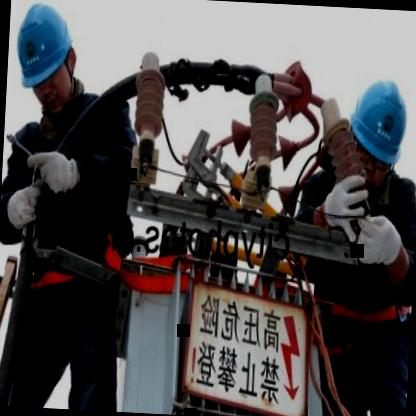helmet: (338, 66, 412, 198), (6, 0, 82, 123)
